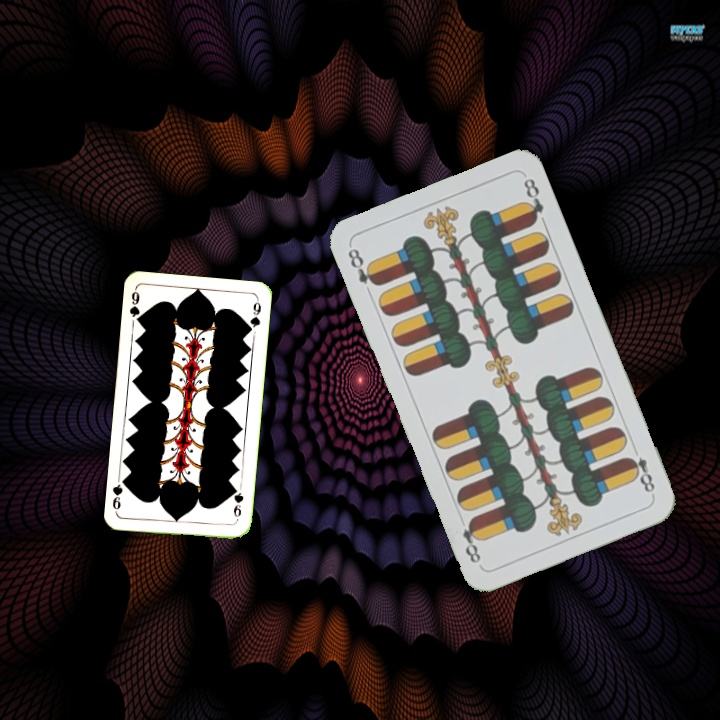E8: (623, 441, 658, 498), (343, 244, 382, 289)
G9: (125, 285, 144, 327), (230, 483, 246, 524)
